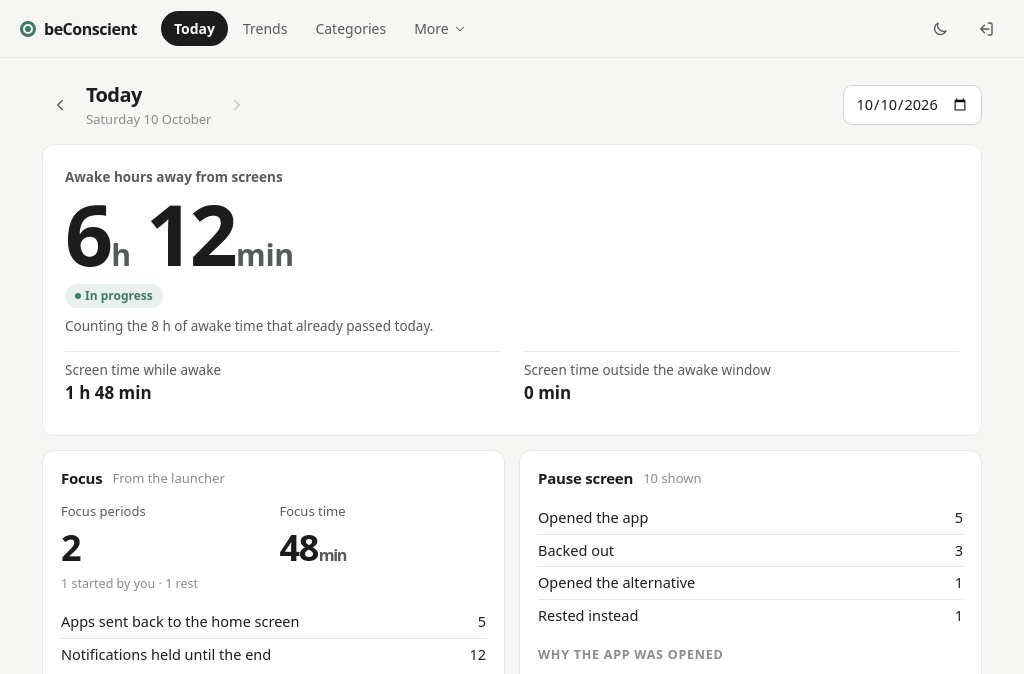
Scenario: App › keeps the secondary views behind More
expect the element with test id "headline" is shown: met, box [65, 176, 294, 291]
expect the button "Devices" is not shown: met
Click the button "More" at coordinates (440, 28), box [401, 11, 480, 46]
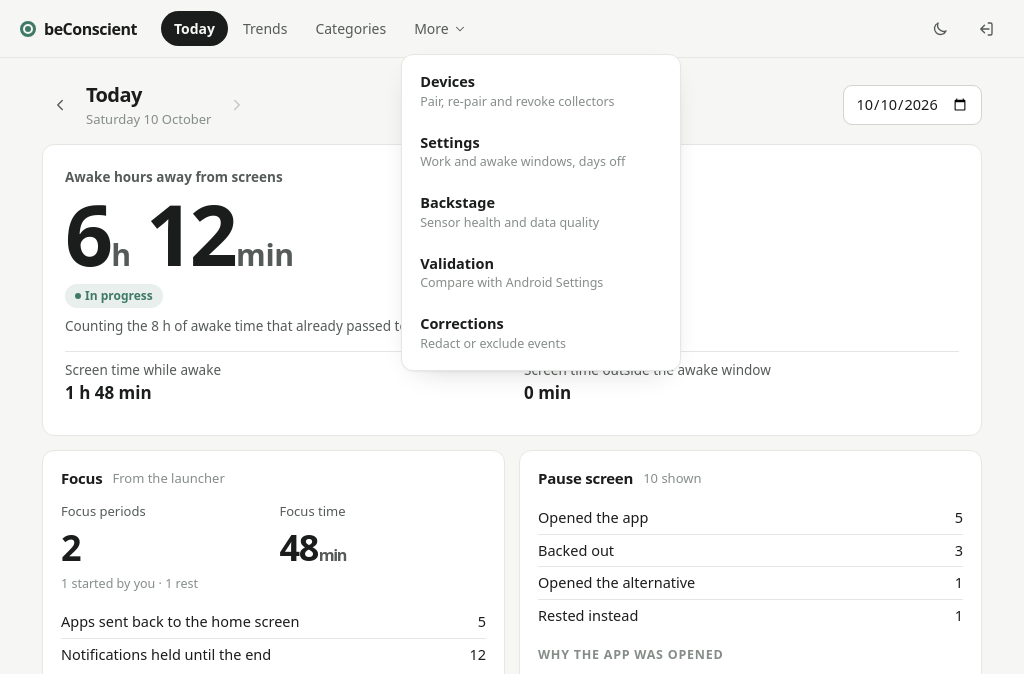
Click the menu item "Devices Pair, re-pair and revoke collectors" at coordinates (541, 91), box [408, 61, 674, 122]
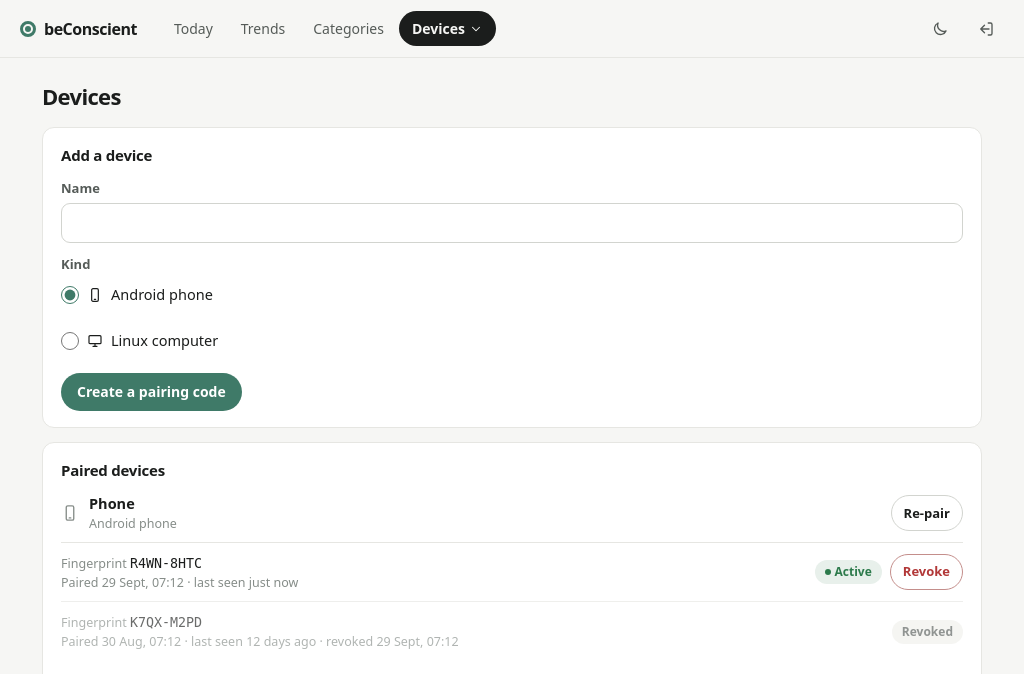
expect the heading "Devices" is shown: met, box [42, 80, 121, 113]
expect the menu is gone: met
